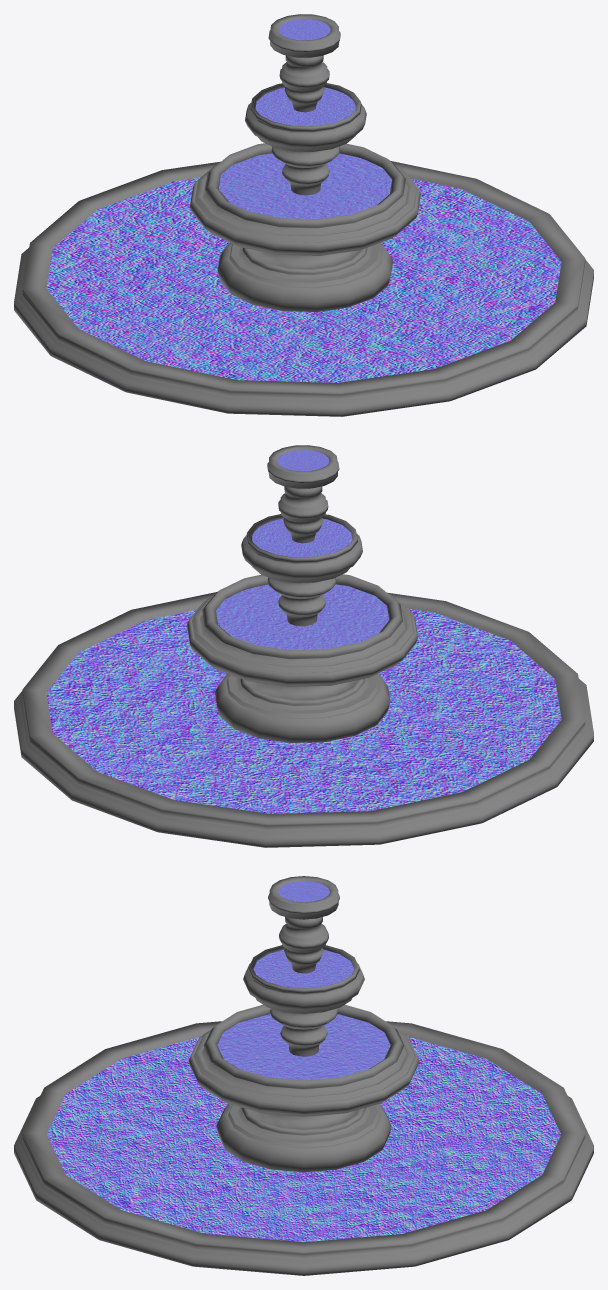
The model's file is fuente1.obj.
The picture shows the model from 3 angles, top to bottom: view 1: azimuth 30°, elevation 25°; view 2: azimuth 150°, elevation 25°; view 3: azimuth 270°, elevation 25°; orthographic projection.
Parts seen in each view (by area): view 1: Grass_001_Circle_006, Marble___Under_Grass___001_Circle_010, Fountain_1_001_Circle_011, Water_1_001_Circle_009, Fountain_2_001_Cylinder_002, Fountain_3_001_Cylinder_000, Water_2_001_Circle_008, Water_3_001_Circle_007; view 2: Grass_001_Circle_006, Marble___Under_Grass___001_Circle_010, Fountain_1_001_Circle_011, Water_1_001_Circle_009, Fountain_2_001_Cylinder_002, Fountain_3_001_Cylinder_000, Water_2_001_Circle_008, Water_3_001_Circle_007; view 3: Grass_001_Circle_006, Marble___Under_Grass___001_Circle_010, Fountain_1_001_Circle_011, Water_1_001_Circle_009, Fountain_2_001_Cylinder_002, Fountain_3_001_Cylinder_000, Water_2_001_Circle_008, Water_3_001_Circle_007.
Boxes of the visible parts, x1,y1,x2,y2 form: Grass_001_Circle_006: [46, 177, 561, 382]; Marble___Under_Grass___001_Circle_010: [14, 161, 593, 416]; Fountain_1_001_Circle_011: [190, 143, 420, 311]; Water_1_001_Circle_009: [219, 153, 391, 219]; Fountain_2_001_Cylinder_002: [245, 83, 366, 195]; Fountain_3_001_Cylinder_000: [268, 14, 340, 112]; Water_2_001_Circle_008: [255, 87, 355, 126]; Water_3_001_Circle_007: [278, 19, 330, 40]; Grass_001_Circle_006: [46, 608, 561, 813]; Marble___Under_Grass___001_Circle_010: [14, 592, 593, 847]; Fountain_1_001_Circle_011: [187, 574, 417, 742]; Water_1_001_Circle_009: [216, 584, 388, 650]; Fountain_2_001_Cylinder_002: [241, 514, 362, 626]; Fountain_3_001_Cylinder_000: [267, 445, 339, 543]; Water_2_001_Circle_008: [252, 518, 352, 557]; Water_3_001_Circle_007: [277, 450, 329, 471]; Grass_001_Circle_006: [46, 1036, 561, 1242]; Marble___Under_Grass___001_Circle_010: [14, 1021, 593, 1275]; Fountain_1_001_Circle_011: [188, 1005, 419, 1172]; Water_1_001_Circle_009: [217, 1014, 390, 1080]; Fountain_2_001_Cylinder_002: [243, 945, 364, 1056]; Fountain_3_001_Cylinder_000: [268, 876, 339, 973]; Water_2_001_Circle_008: [253, 949, 354, 988]; Water_3_001_Circle_007: [278, 881, 329, 902].
Bounding box in the file's own units: 6.27 × 3.14 × 6.27.
Materials: 2 (2 with a texture image).
